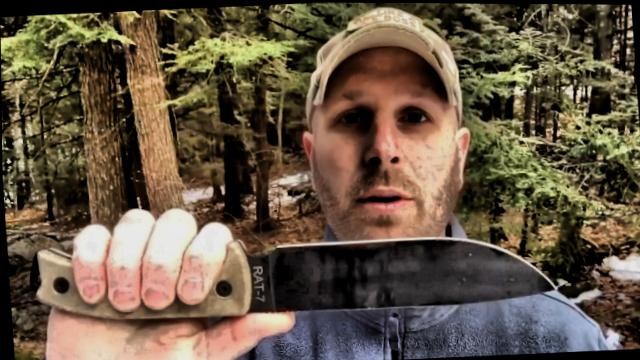knife: (104, 181, 566, 342)
